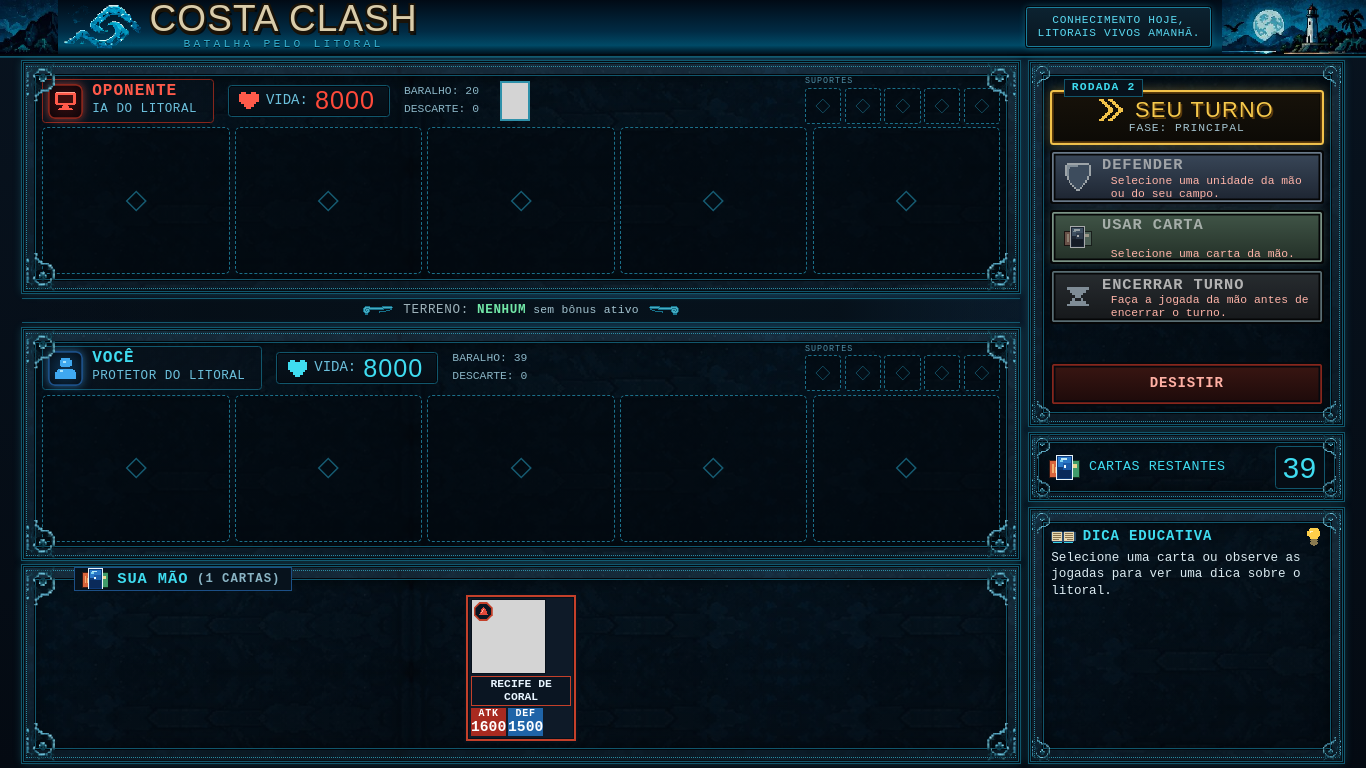
Test: Partida: leitura do tabuleiro e jogadas › prende o foco no diálogo de face e Esc cancela sem jogar a carta
This screenshot has width=1366, height=768.
Click the button with aria-label "Mão 1:". click: click(521, 668)
box: [466,595,576,741]
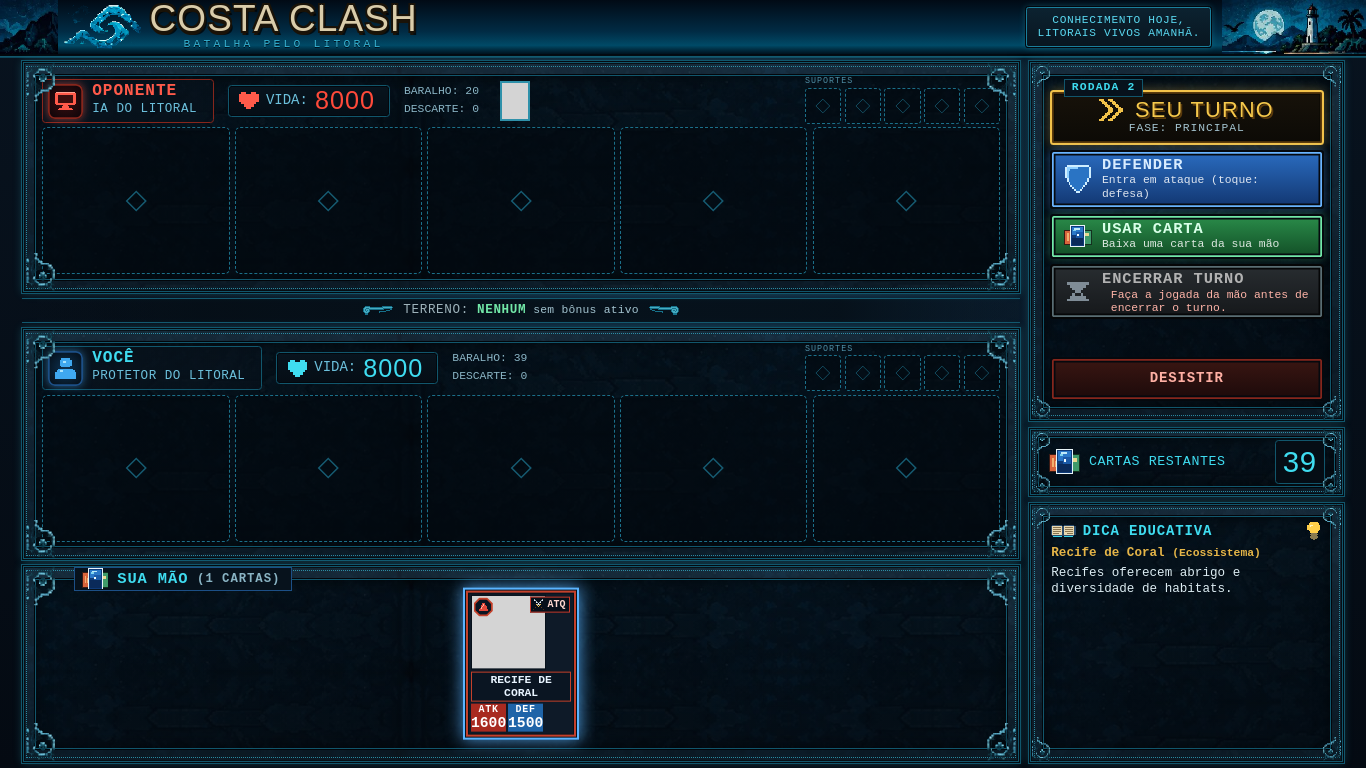
Click the button "Usar carta Baixa uma carta da sua mão". click: click(1187, 236)
box: [1050,214,1324,259]
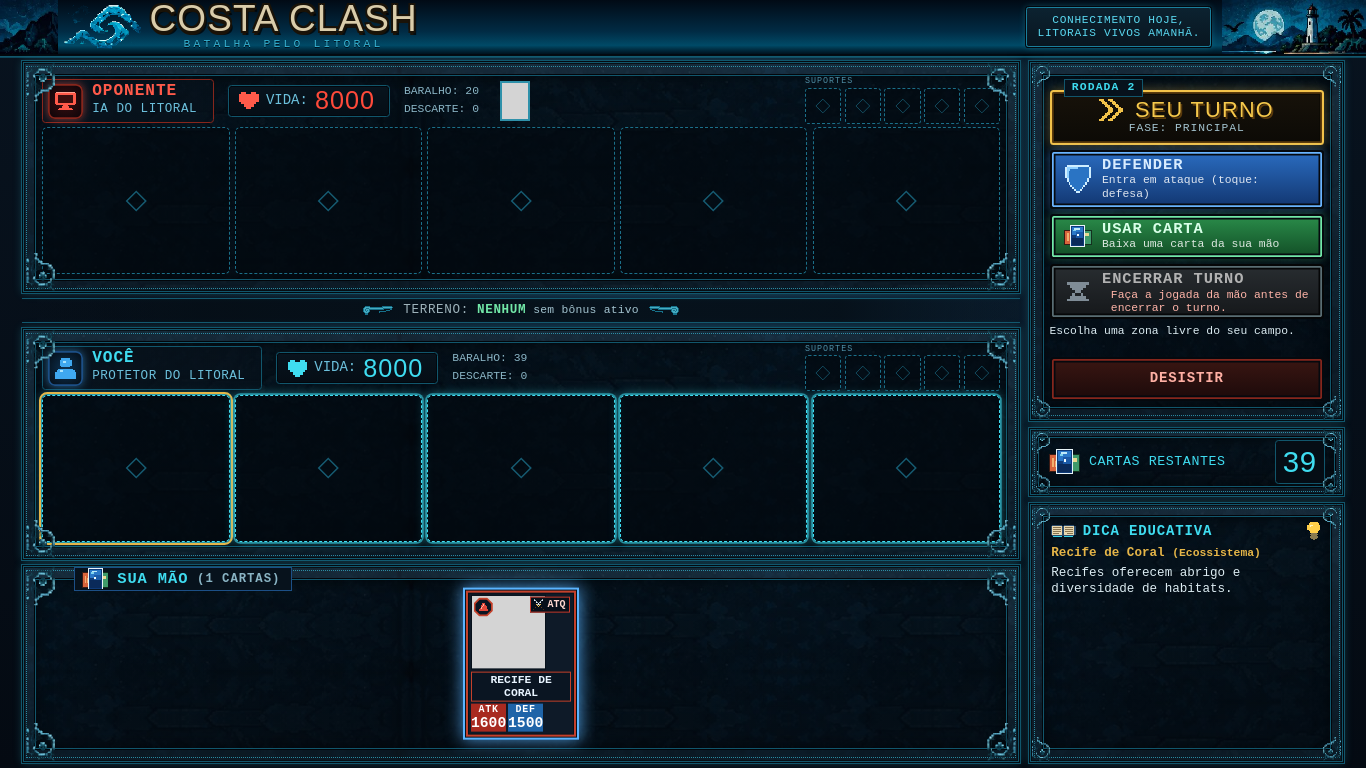
Click the button named "Zona 1 sua: vazia". click: click(136, 468)
box: [42,395,230,542]
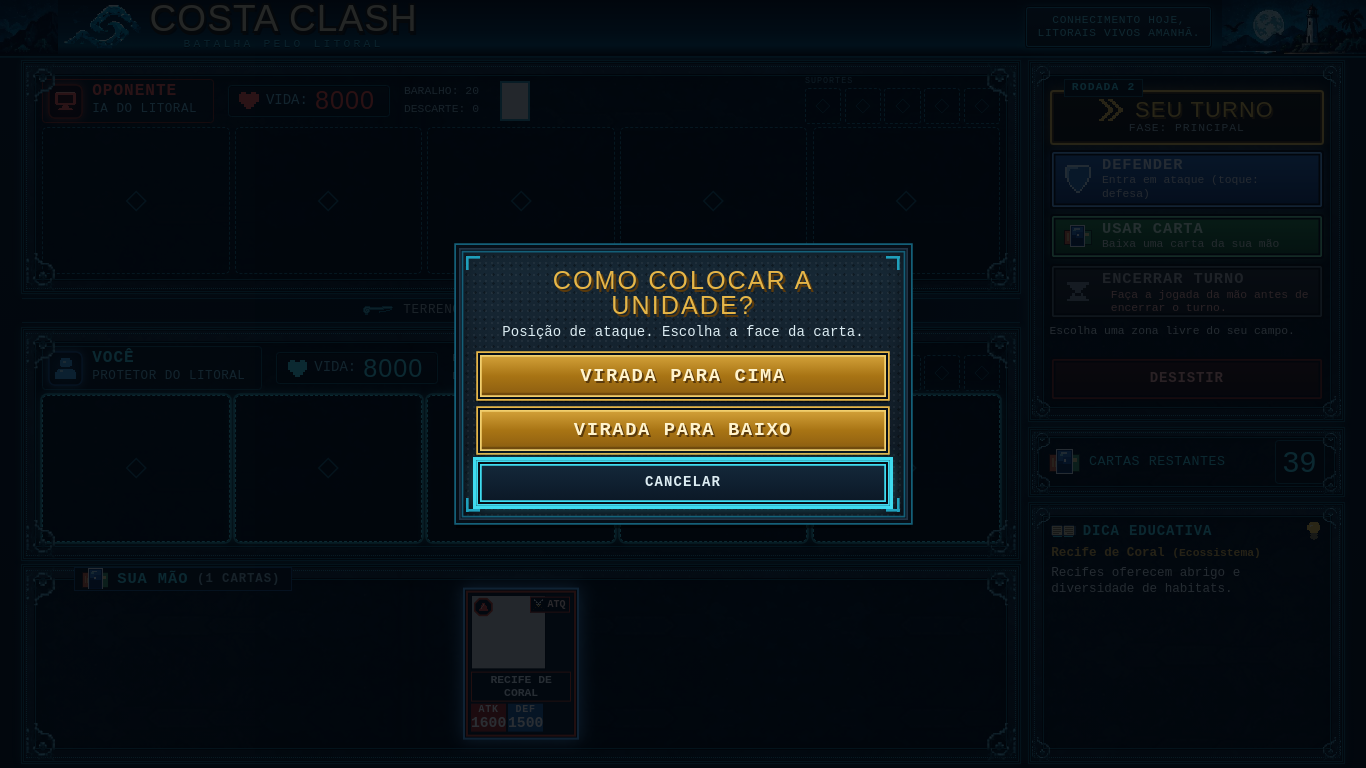
Press Tab
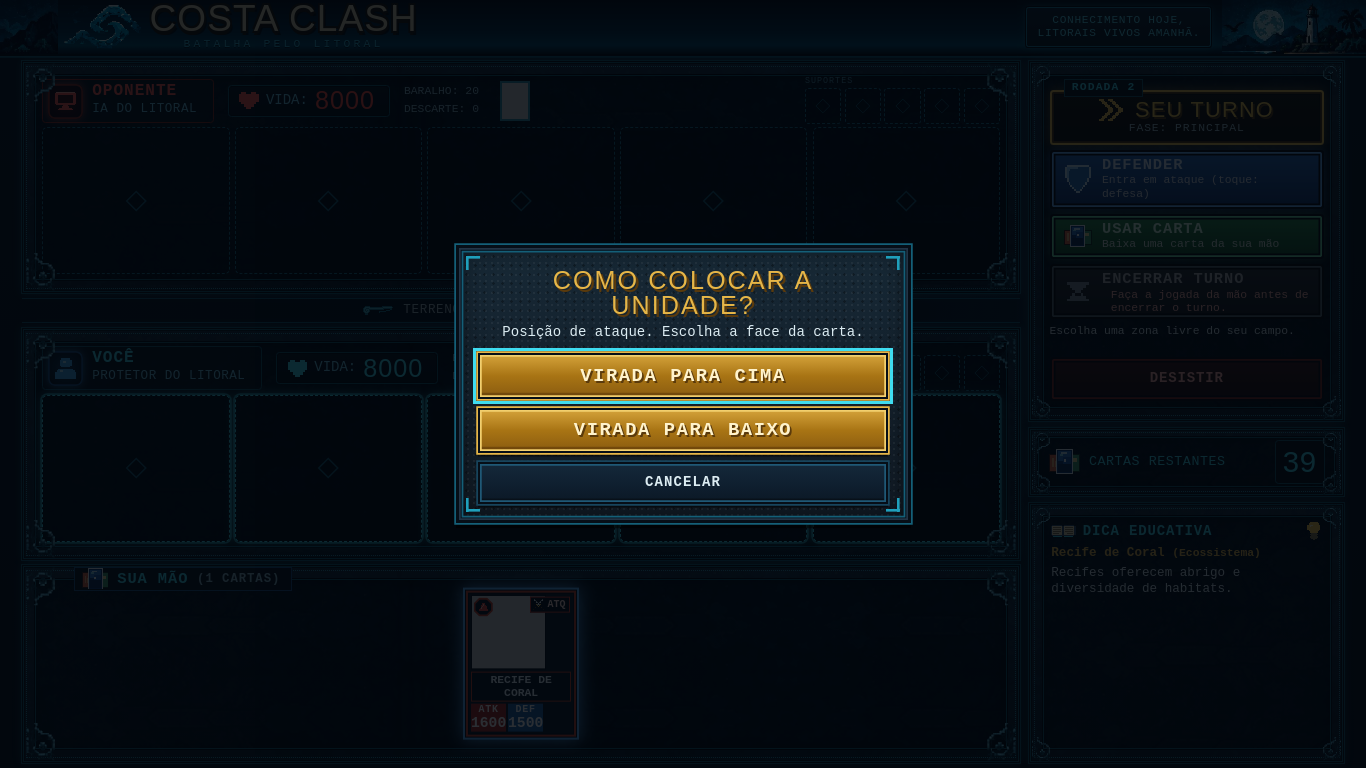
Press Tab
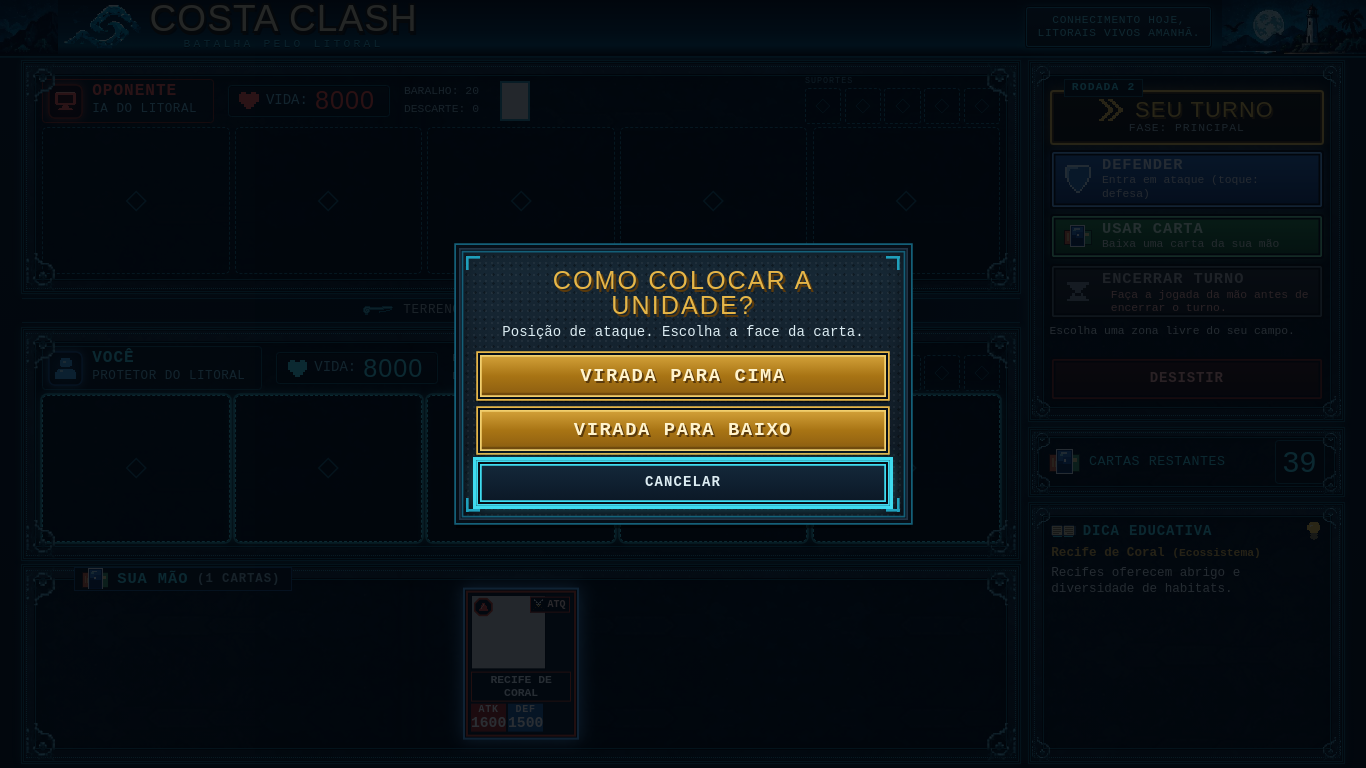
Press Escape
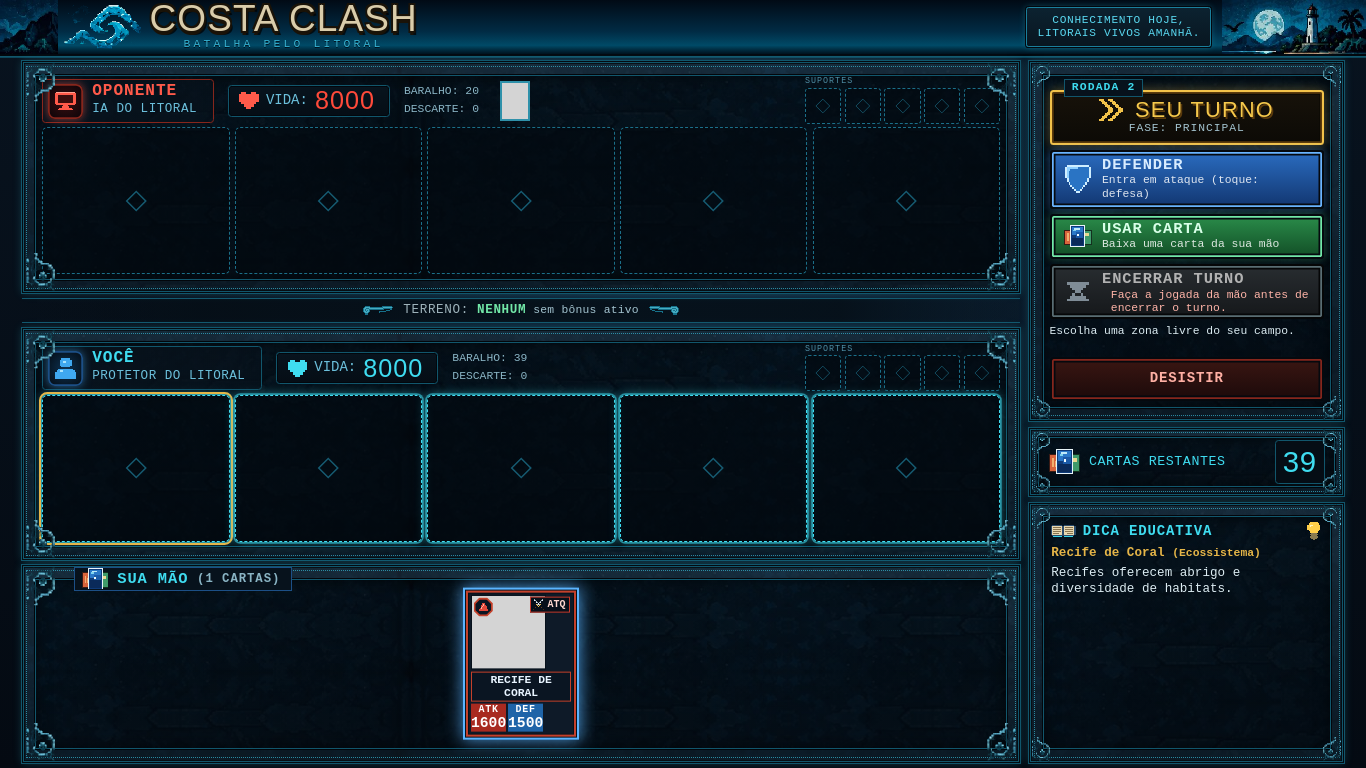
Check: the number of buttons "Recife de Coral ATK 1600 DEF 1500 ATQ" is 1, box [466,590,576,736]
Check: the button named "Zona 1 sua: vazia" is shown, box [42,395,230,542]
Check: the heading "Como colocar a unidade?" is gone
